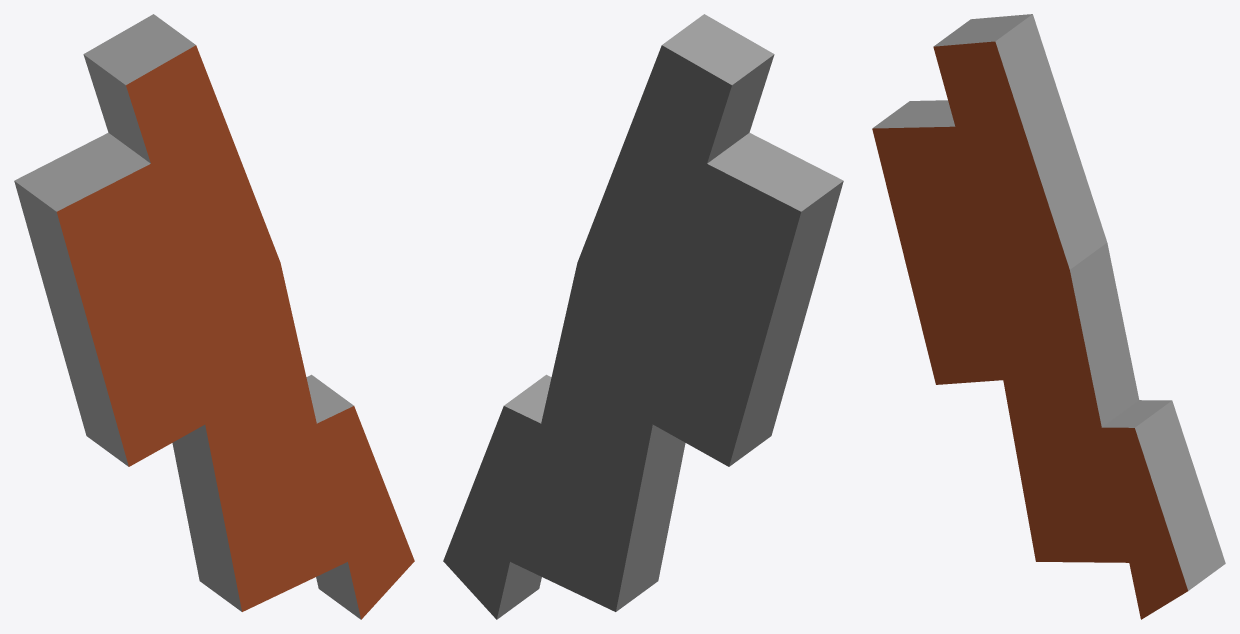
File: construction_1175_assumed_A_Casa_h6m.obj
3 views of the same model, side by side, from view 1: azimuth 30°, elevation 25°; view 2: azimuth 150°, elevation 25°; view 3: azimuth 330°, elevation 25° (orthographic). The views are drawn at different scales.
Parts seen in each view (by area): view 1: construction_1175_assumed_A_Casa; view 2: construction_1175_assumed_A_Casa; view 3: construction_1175_assumed_A_Casa.
Boxes of the visible parts, box(x1,y1,x2,y2) form: construction_1175_assumed_A_Casa: box(14, 14, 414, 619); construction_1175_assumed_A_Casa: box(443, 14, 843, 619); construction_1175_assumed_A_Casa: box(872, 14, 1225, 619).
Size of the model in its own units: 29.19 by 47.91 by 6.
